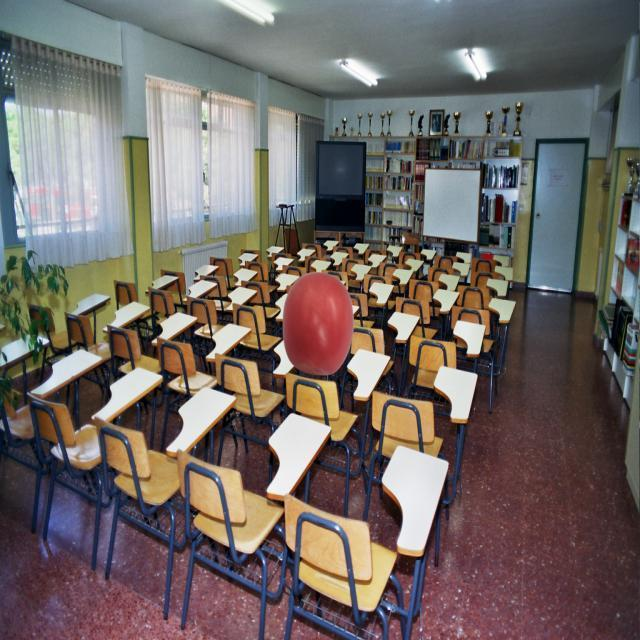apple: (283, 270, 353, 374)
